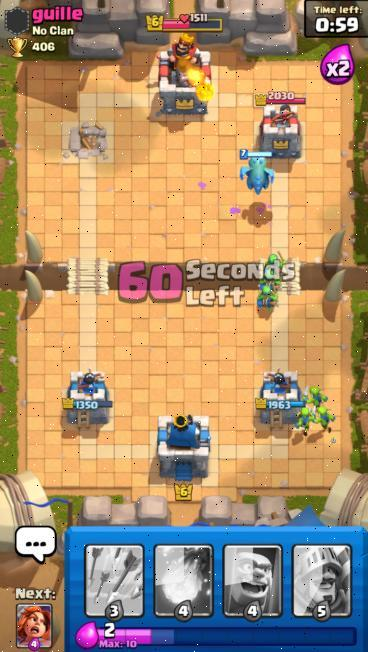EKingTower: (159, 34, 209, 114)
EnemyPrincessTower: (259, 98, 305, 158)
OBabyDrag: (240, 150, 274, 194)
OGoblin: (304, 386, 327, 414), (295, 405, 316, 434), (315, 405, 335, 431)
OSpearGoblin: (257, 284, 276, 312)
OwnKingTower: (158, 417, 210, 482)
OwnPrincessTower: (63, 373, 111, 424), (256, 372, 303, 423)
TowerDown: (62, 123, 112, 161)
